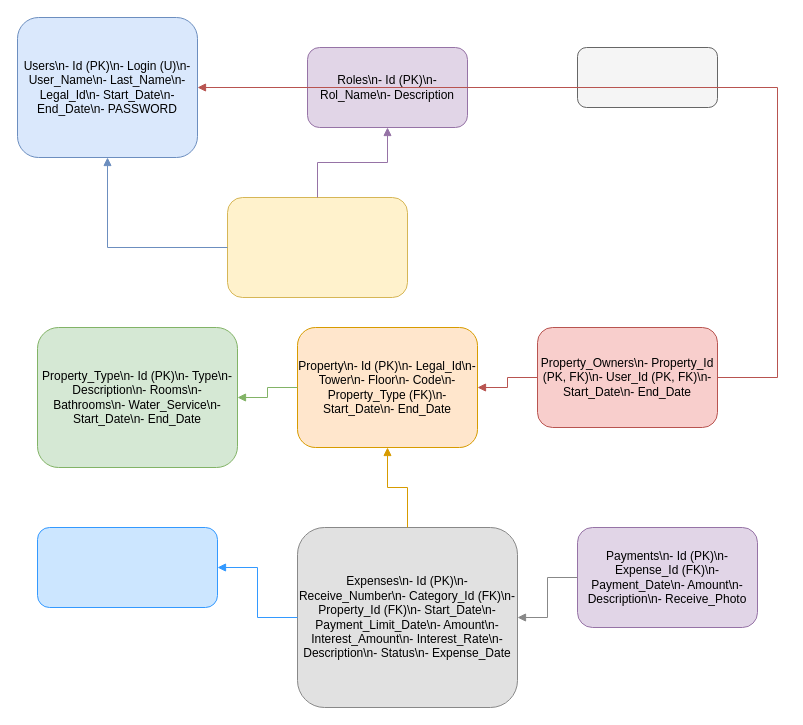
This 803x725 diagram has some shape labels left out. Each missing label, with the centre of its shape:
Expense_Categories\n- Id (PK)\n- Category\n- Description: the point at 127,567
User_Roles\n- Role_Id (PK, FK)\n- User_Id (PK, FK)\n- Start_Date\n- End_Date: the point at 317,247
Versions\n- Version (PK)\n- Last_Updated: the point at 647,77
